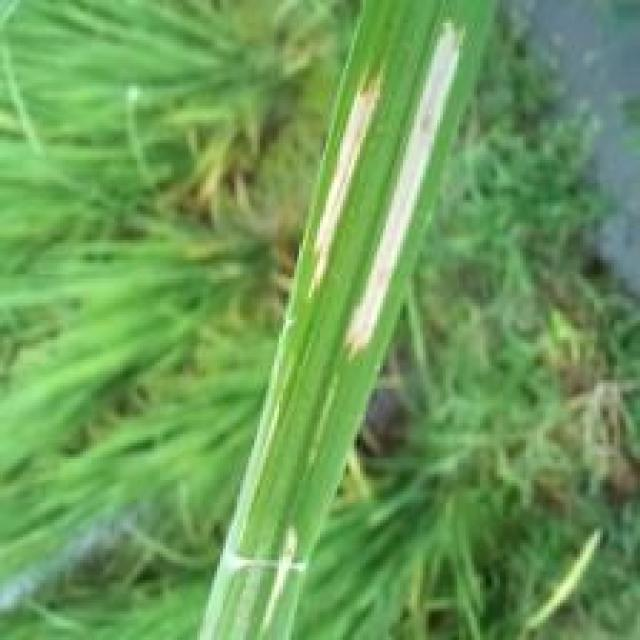Rice_Hispa: (346, 26, 465, 353), (308, 73, 383, 300)
